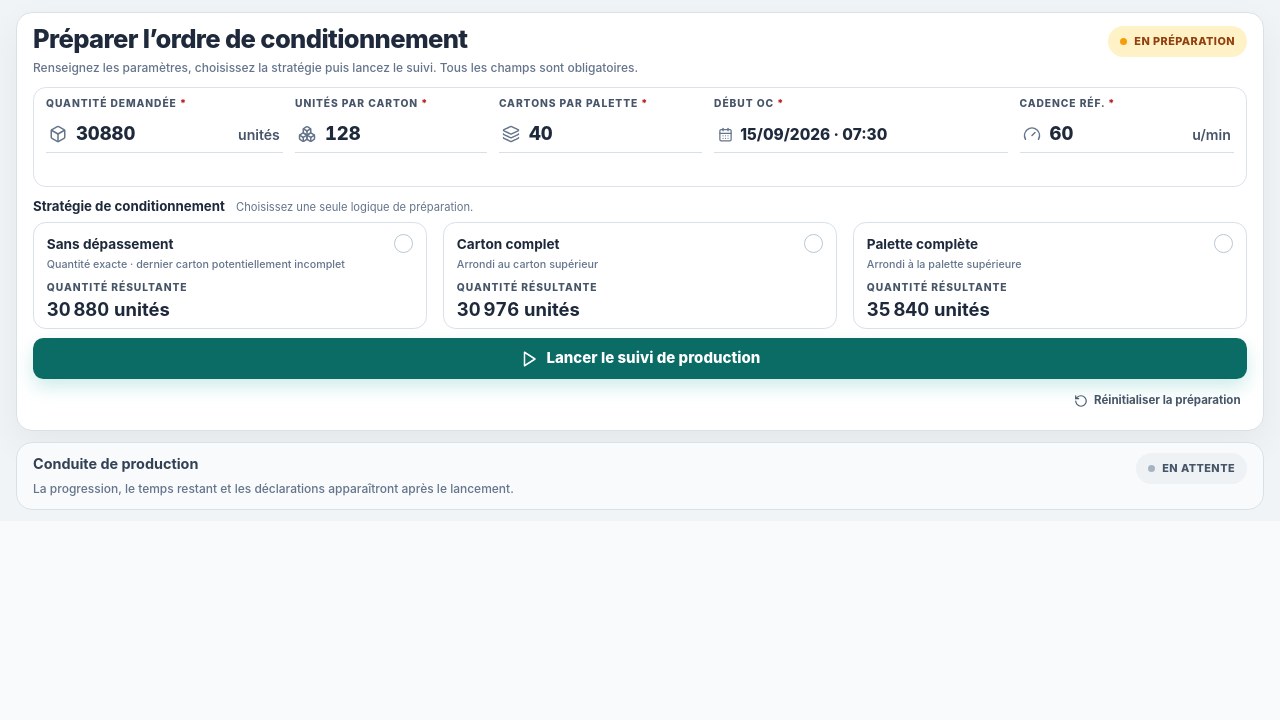
Scenario: Packing preparation persistence hardening › requires explicit consent before starting when persistence is already unavailable
This screenshot has width=1280, height=720.
Click the radio button labelled "Carton complet".
click(508, 244)  # box [443, 222, 837, 329]
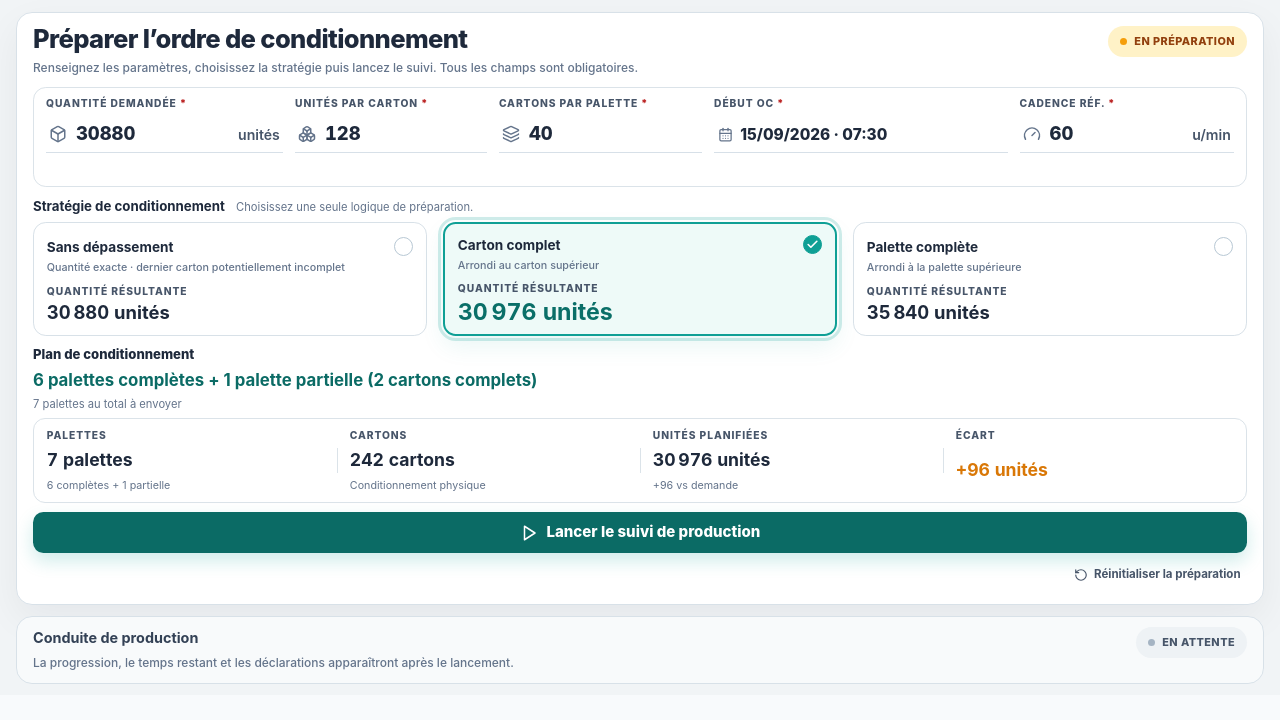
Click the button "Lancer le suivi de production".
click(640, 533)  # box [33, 512, 1247, 553]
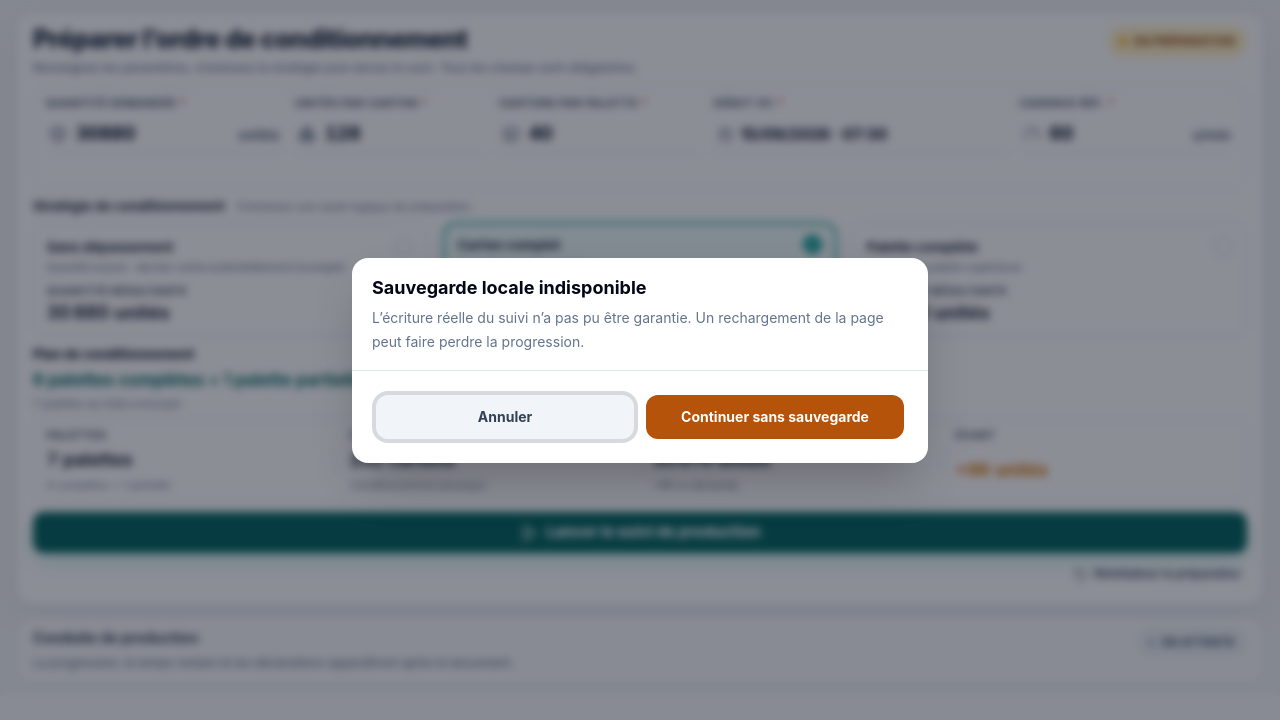
Now the dialog "Sauvegarde locale indisponible" is shown, box [352, 258, 928, 462]
Click the button "Annuler".
click(505, 416)  # box [376, 394, 634, 438]
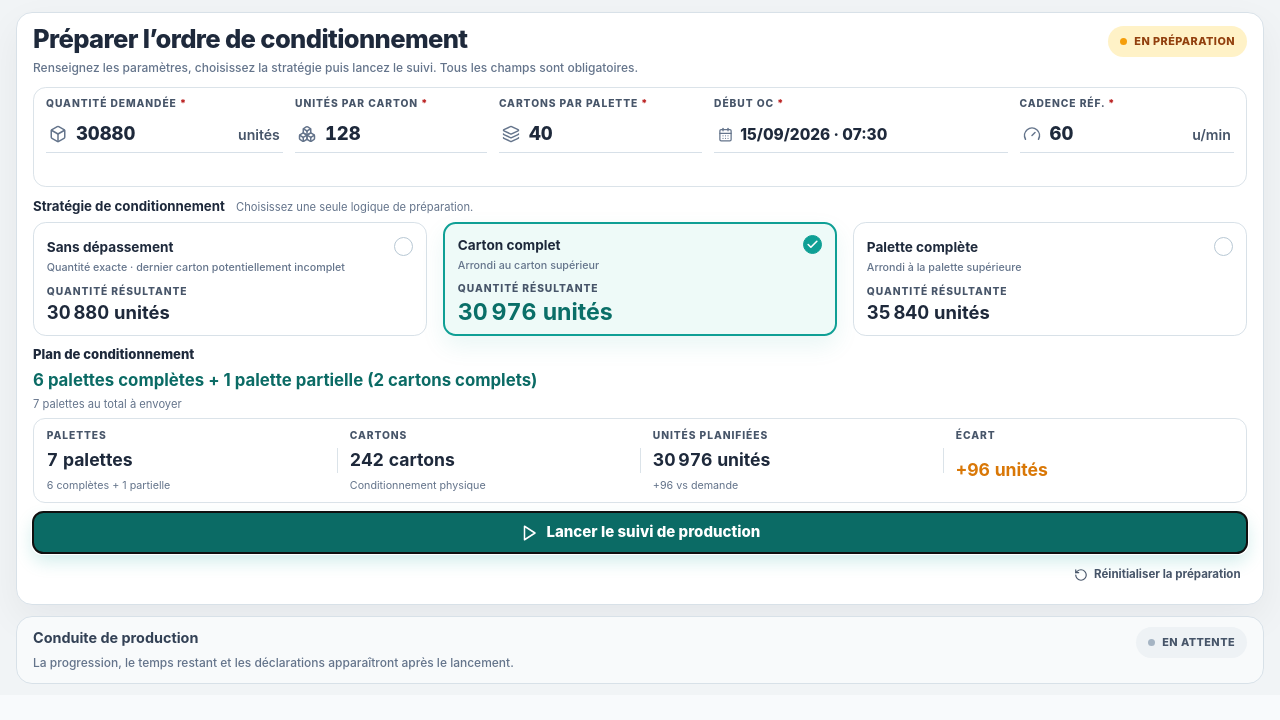
Expected: the heading "Préparer l’ordre de conditionnement" is shown, [33, 23, 468, 54]
Click the button "Lancer le suivi de production".
click(640, 533)  # box [33, 512, 1247, 553]
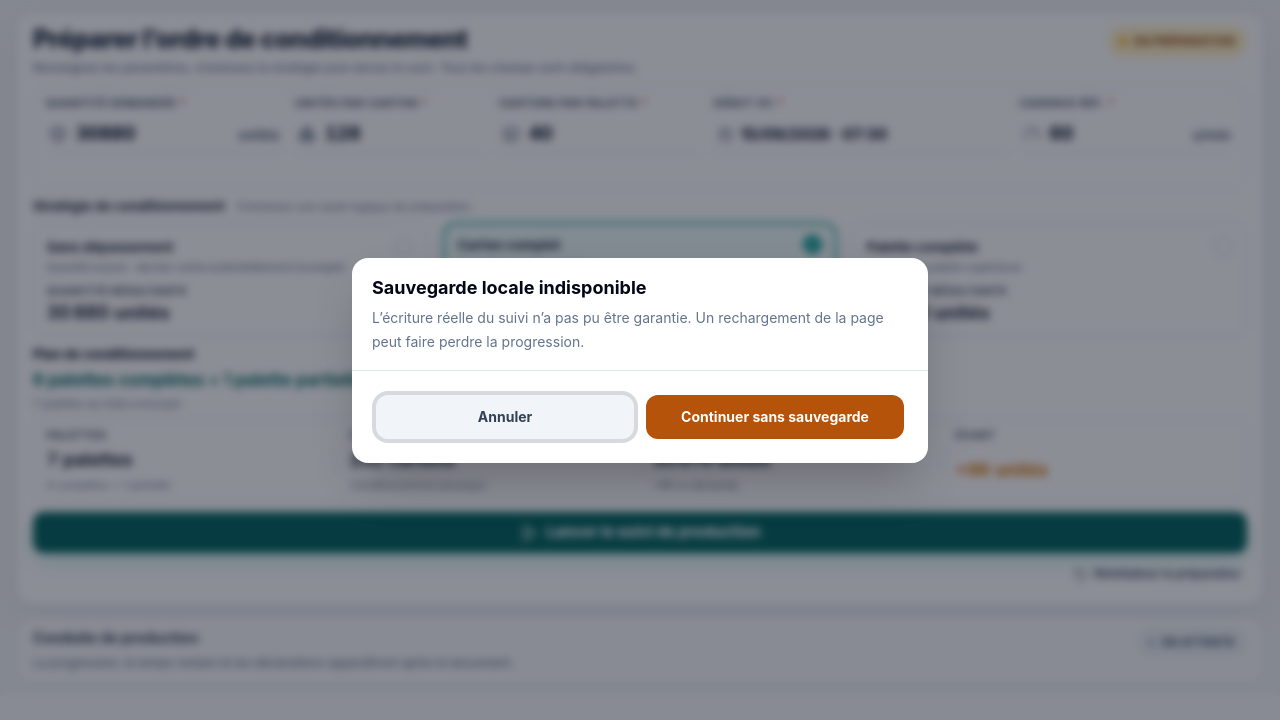
Click the button "Continuer sans sauvegarde".
click(775, 416)  # box [646, 394, 904, 438]
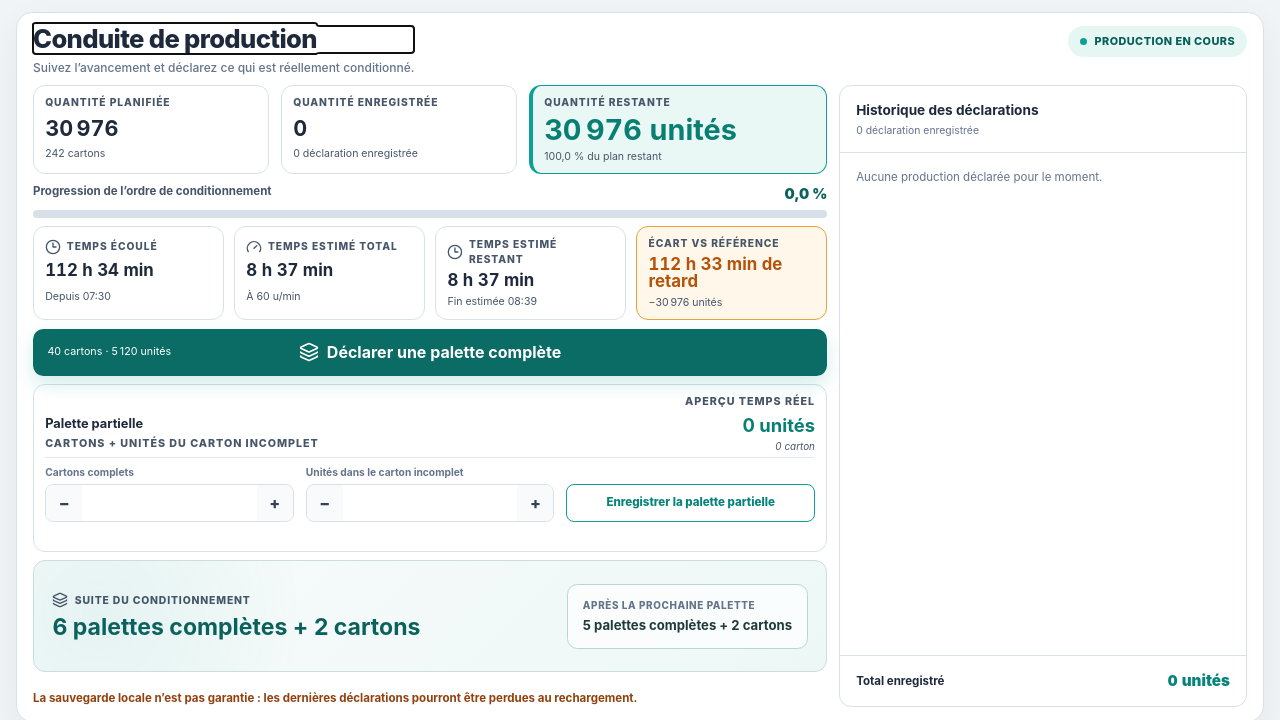
Now the text "sauvegarde locale n’est pas garantie" is shown, box [33, 691, 637, 705]
